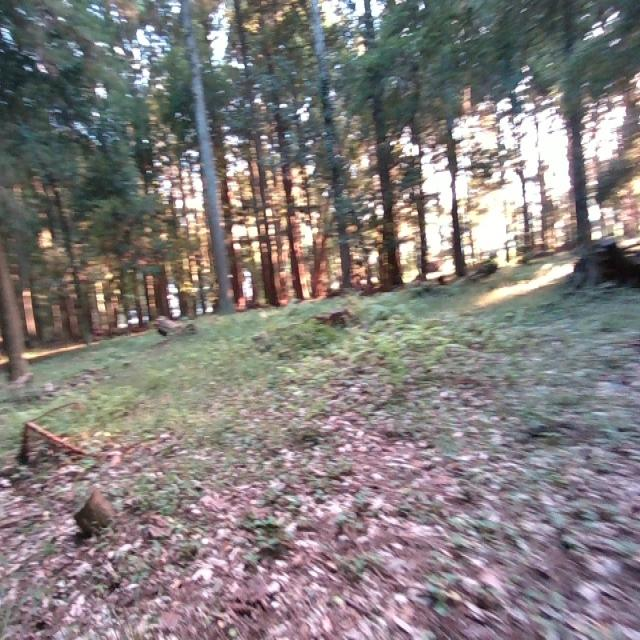tree: (191, 0, 239, 312), (566, 0, 596, 293), (0, 248, 31, 390)
